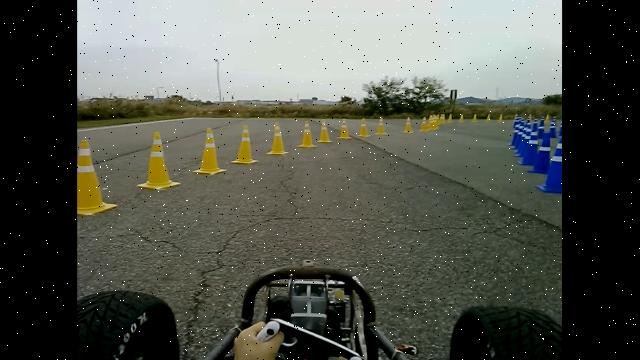blue cone: (535, 137, 563, 193), (527, 131, 553, 174), (518, 132, 540, 165), (509, 116, 525, 147)
yellow cone: (77, 138, 118, 216), (137, 131, 181, 191), (193, 127, 227, 174), (231, 124, 258, 165), (266, 121, 289, 155), (296, 120, 318, 148), (318, 119, 332, 143), (338, 118, 352, 139), (375, 116, 388, 135), (358, 117, 370, 137), (404, 115, 414, 134), (419, 116, 430, 132), (428, 118, 439, 130), (439, 113, 446, 123), (471, 113, 478, 123), (497, 113, 504, 122), (459, 113, 465, 123), (447, 113, 453, 123), (486, 114, 492, 122)
